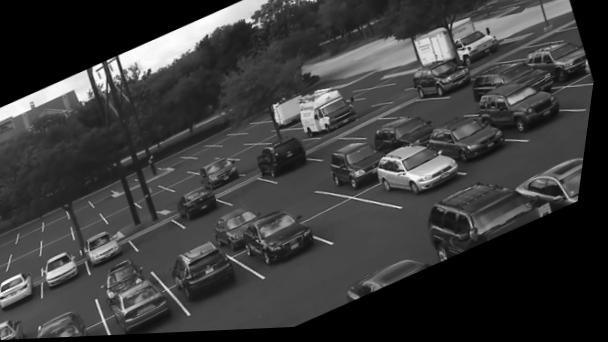empty: (311, 198, 408, 244), (135, 218, 194, 256), (49, 286, 100, 322), (282, 190, 337, 218), (160, 240, 204, 272), (226, 181, 278, 206), (346, 118, 400, 142), (556, 87, 596, 118), (314, 136, 358, 159), (390, 102, 448, 119), (48, 233, 82, 259), (107, 206, 149, 227), (141, 190, 184, 210), (17, 247, 49, 272), (79, 220, 114, 242), (131, 184, 168, 204), (499, 50, 545, 66), (346, 88, 393, 103), (78, 211, 110, 233), (441, 105, 483, 121), (236, 146, 275, 163), (18, 237, 48, 259), (48, 223, 78, 245), (70, 200, 102, 220), (161, 170, 196, 188), (537, 34, 581, 48), (172, 175, 205, 193), (105, 199, 138, 217), (220, 142, 254, 159), (92, 191, 123, 209), (14, 260, 44, 278), (50, 210, 74, 232), (188, 158, 222, 173), (243, 155, 268, 175), (247, 130, 282, 144), (265, 132, 304, 144), (162, 157, 197, 170), (26, 222, 48, 241), (1, 235, 22, 254), (192, 147, 224, 158), (168, 195, 190, 211), (240, 124, 271, 135), (217, 136, 247, 147), (0, 262, 16, 279), (0, 252, 18, 266), (0, 282, 7, 298)
occupied: (431, 187, 560, 264), (340, 258, 438, 310), (378, 148, 466, 205), (176, 243, 251, 303), (482, 87, 563, 140), (432, 119, 515, 168), (250, 212, 325, 266), (116, 276, 183, 336), (518, 163, 588, 214), (370, 119, 438, 159), (303, 93, 361, 139), (416, 59, 474, 104), (261, 139, 315, 186), (477, 66, 547, 101), (334, 147, 387, 193), (530, 47, 590, 87), (221, 210, 263, 255), (182, 188, 225, 224), (44, 310, 97, 339), (5, 272, 42, 311), (92, 233, 129, 267), (205, 161, 244, 193), (52, 254, 86, 289), (115, 262, 147, 294), (6, 321, 30, 340)
